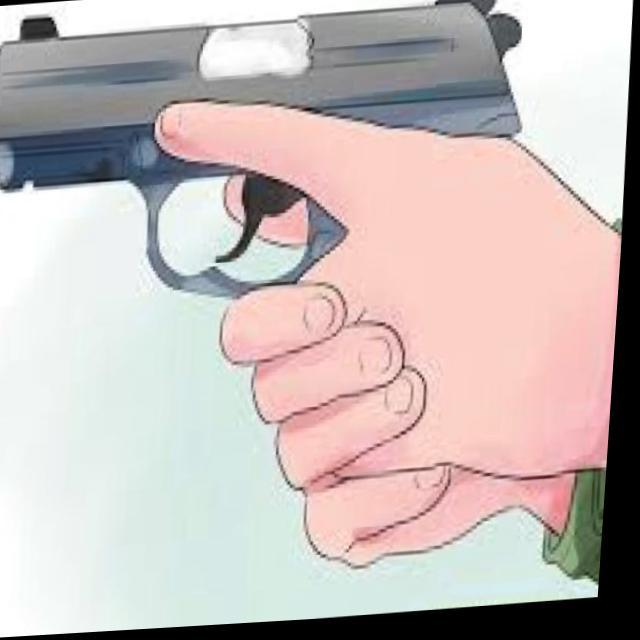weapon: (0, 0, 534, 315)
